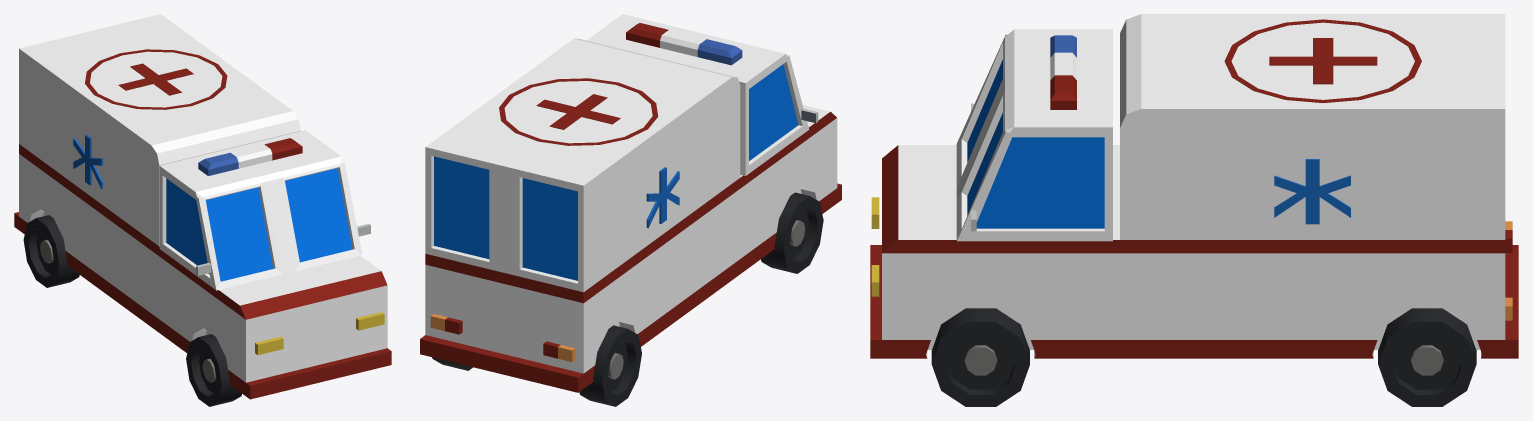
File: Ambulance_1.fbx
3 renders of one model, left to right at view 1: azimuth 30°, elevation 25°; view 2: azimuth 150°, elevation 25°; view 3: azimuth 270°, elevation 25°, orthographic. The views are drawn at different scales.
Visible parts, largest first — view 1: Ambulance_1; view 2: Ambulance_1; view 3: Ambulance_1.
Part boxes in pixels (x1,y1,x2,y2): Ambulance_1: (14, 14, 391, 406); Ambulance_1: (420, 14, 841, 406); Ambulance_1: (870, 14, 1518, 406).
Size of the model in its own units: 190 by 224 by 448.
